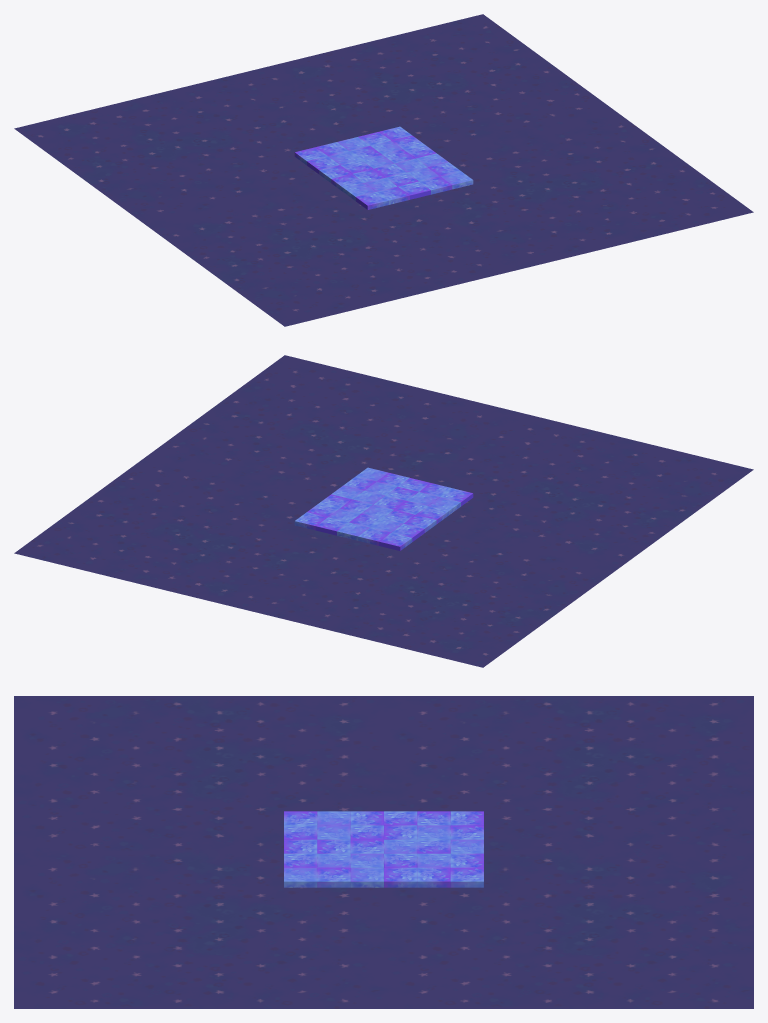
Rendered from ingamemap5x6.fbx.
3 views of the same model, one above another, from view 1: azimuth 30°, elevation 25°; view 2: azimuth 150°, elevation 25°; view 3: azimuth 270°, elevation 25° (orthographic). The views are drawn at different scales.
Visible parts, largest first — view 1: Cube.012, map5x6; view 2: Cube.012, map5x6; view 3: Cube.012, map5x6.
Boxes of the visible parts, x1,y1,x2,y2 form: Cube.012: (14,14,753,326); map5x6: (294,126,473,209); Cube.012: (14,355,753,667); map5x6: (294,467,473,550); Cube.012: (14,696,753,1008); map5x6: (284,811,483,887).
Size of the model in its own units: 4000 by 180 by 4000.
3 materials, 3 textured.
